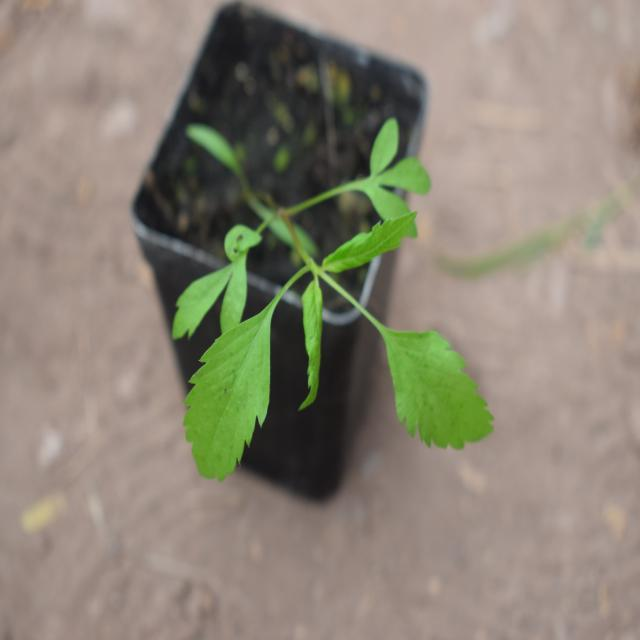Bidens pilosa: (156, 133, 486, 475)
